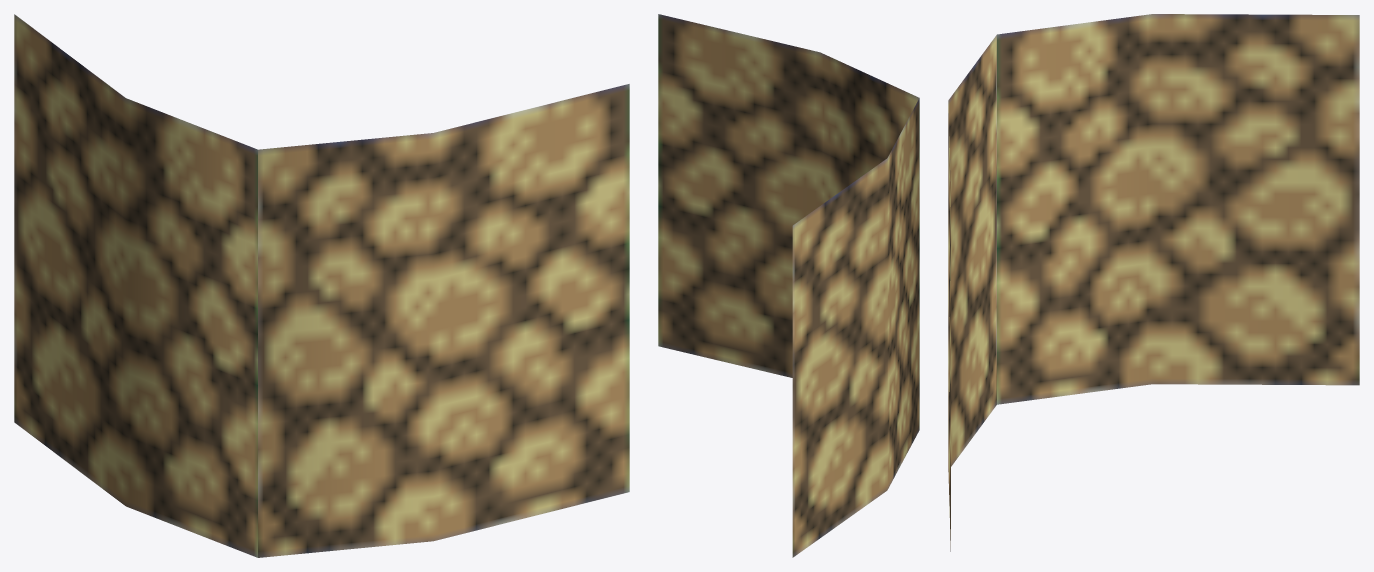
Rendered from dirtWall_outerCornerShape.fbx.
The picture shows the model from 3 angles, left to right: view 1: azimuth 30°, elevation 25°; view 2: azimuth 150°, elevation 25°; view 3: azimuth 270°, elevation 25°; orthographic projection. The views are drawn at different scales.
Parts seen in each view (by area): view 1: dirtWall_outerCorner; view 2: dirtWall_outerCorner; view 3: dirtWall_outerCorner.
Boxes of the visible parts, <box> form: dirtWall_outerCorner: <box>14,14,629,557</box>; dirtWall_outerCorner: <box>658,14,919,557</box>; dirtWall_outerCorner: <box>948,14,1359,551</box>.
Size of the model in its own units: 1.01 by 1 by 1.01.
